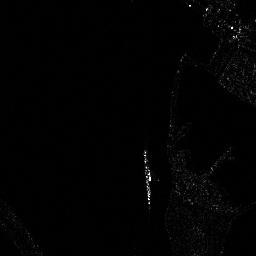ship: (143, 149, 153, 205)
